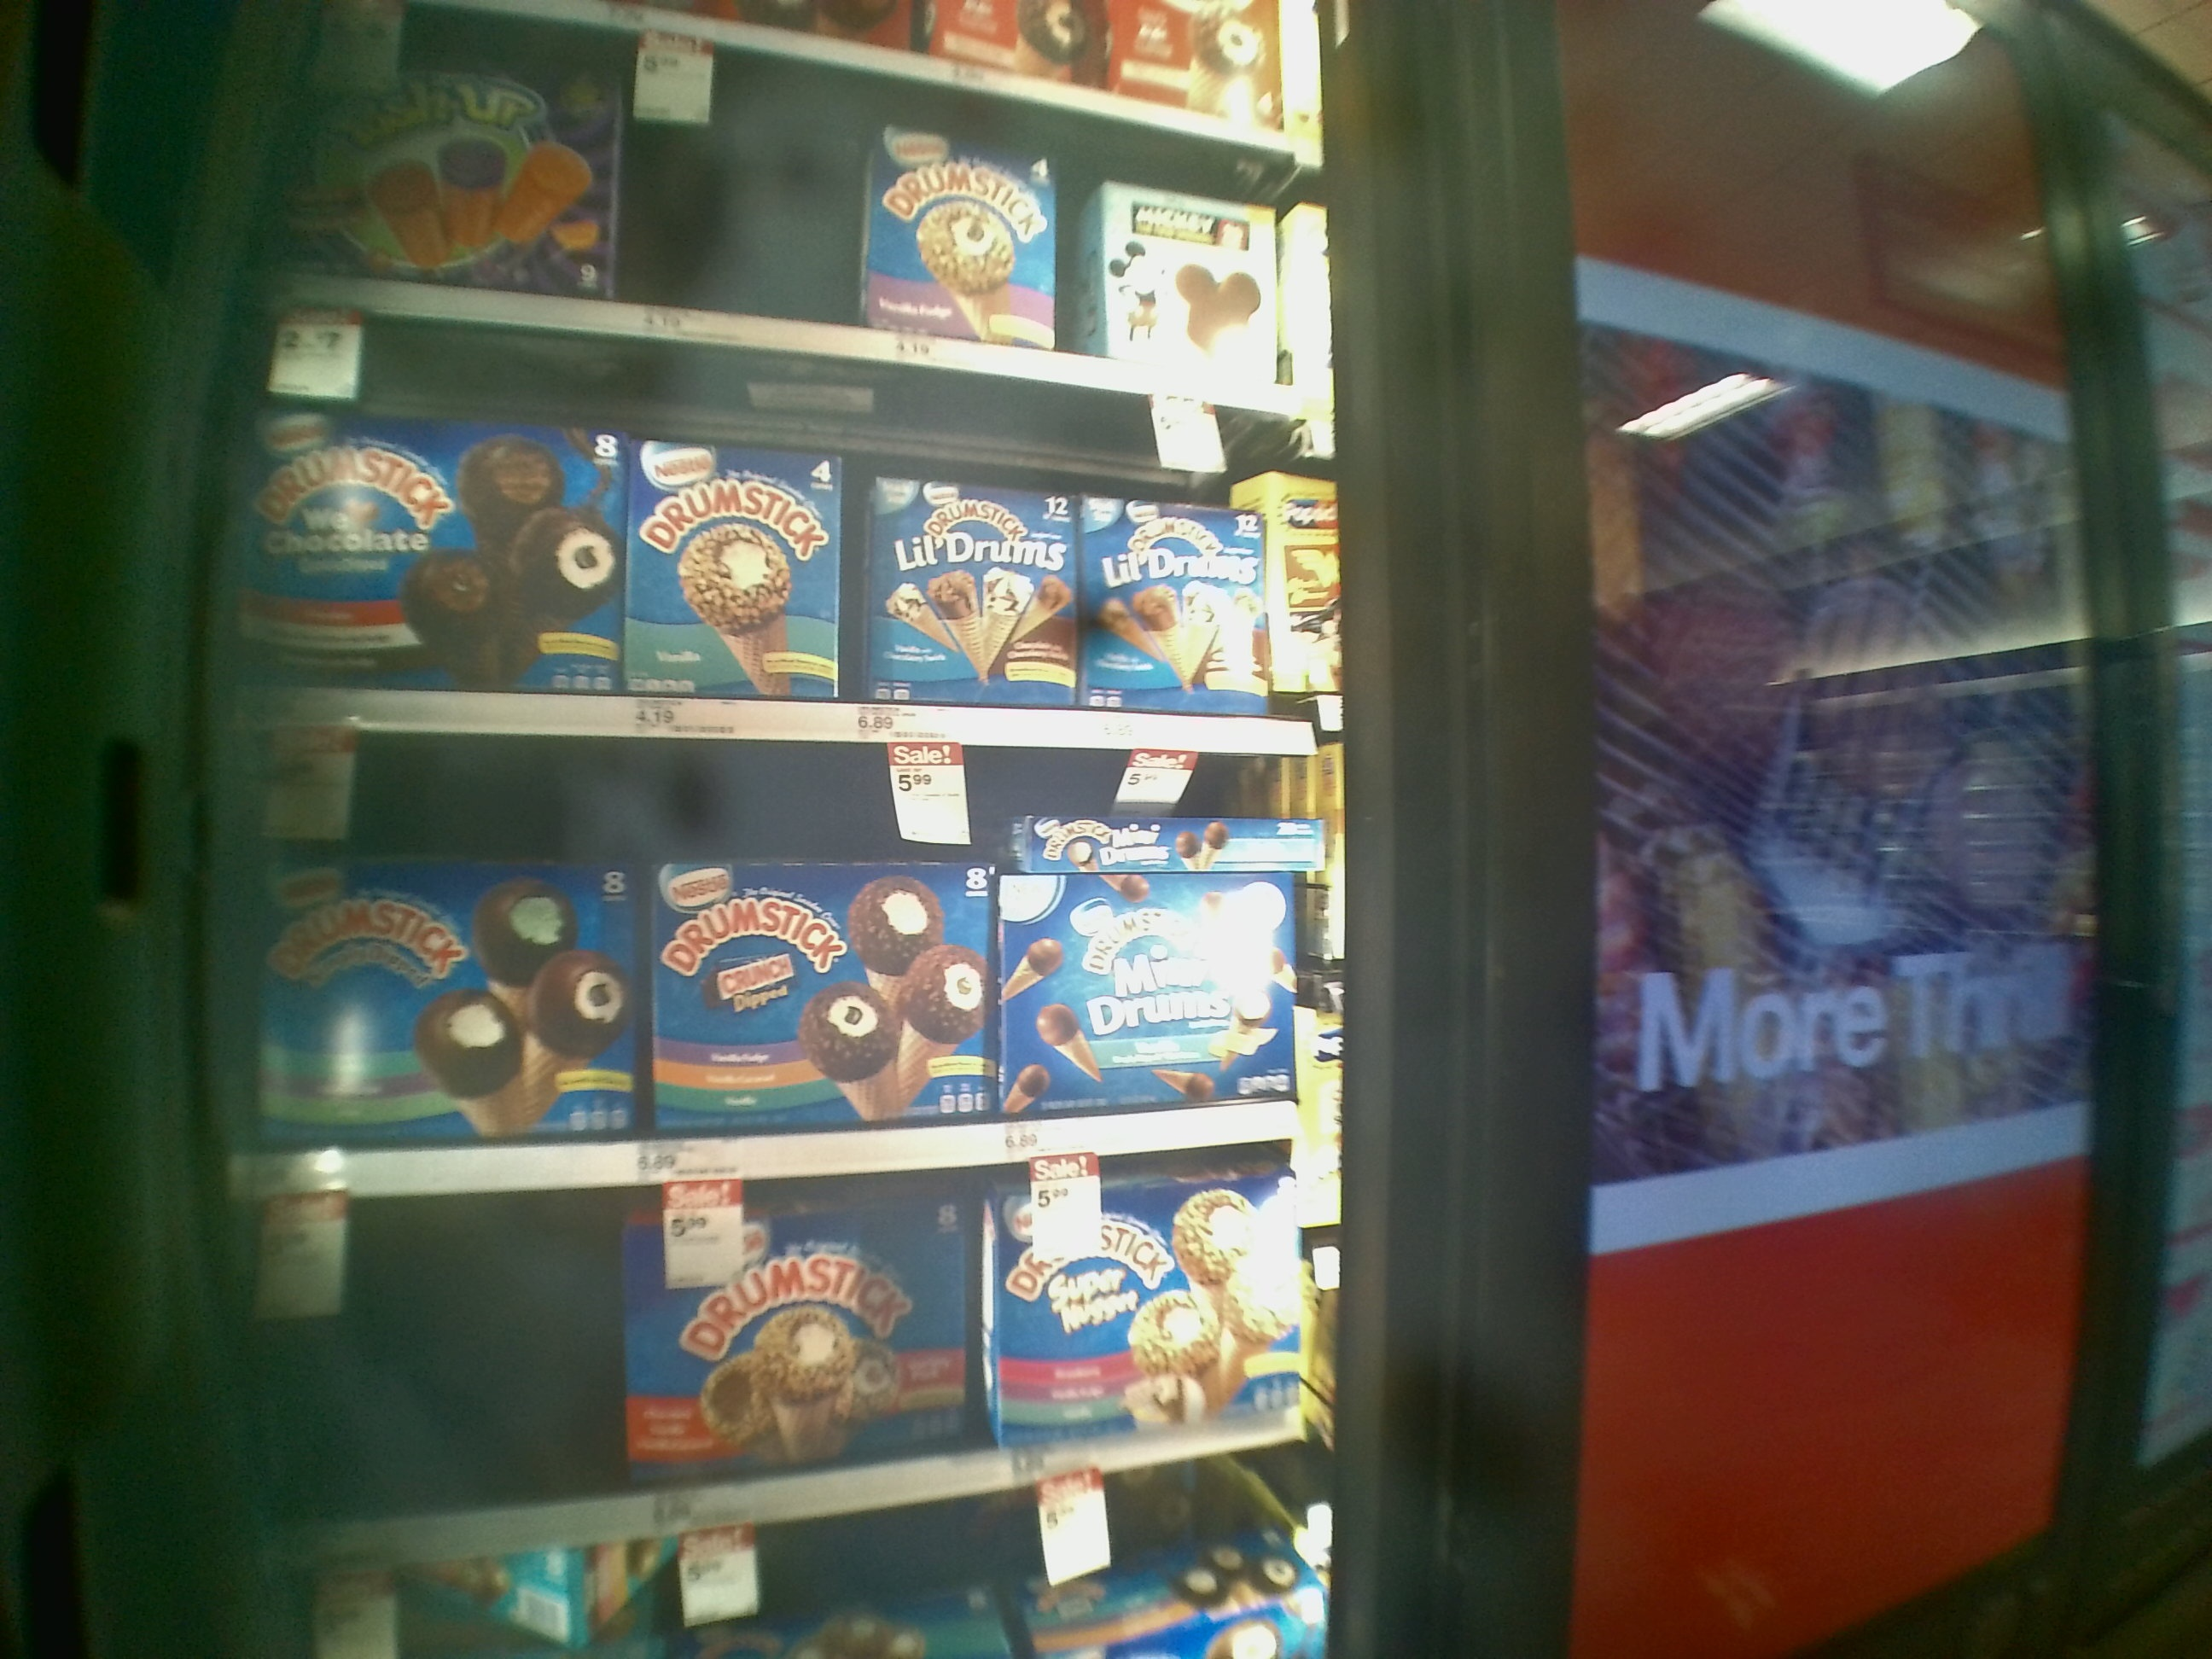shelf: (233, 744, 1362, 1188), (235, 310, 1350, 746), (239, 1121, 1338, 1561)
